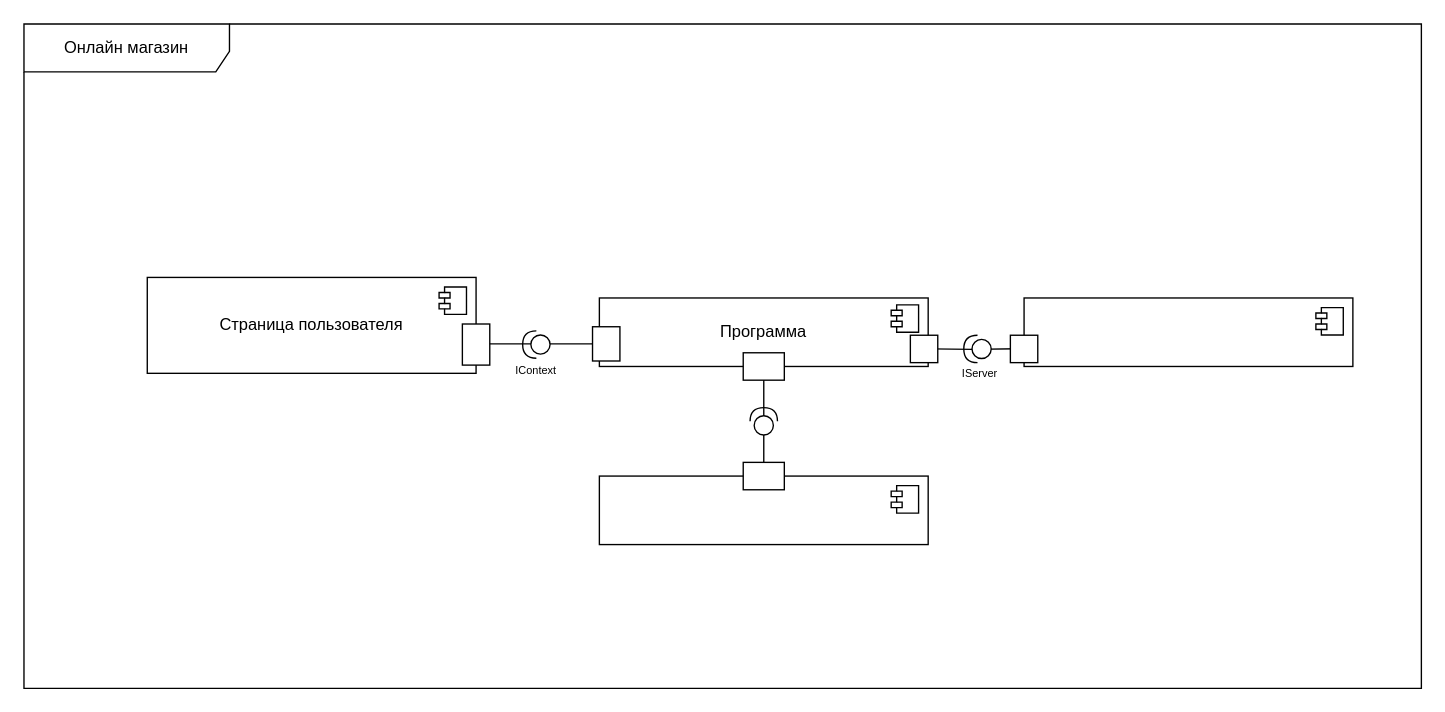
Image size: 1445x712. Some labels were removed from this diagram. The box of each missing label's shape, as (x1, y1, x2, y2) in pixels:
База данных: (1023, 297, 1353, 366)
Платежный шлюз: (598, 475, 928, 545)
